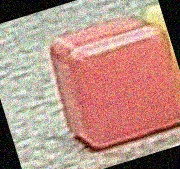orange_cube: (44, 13, 180, 154)
